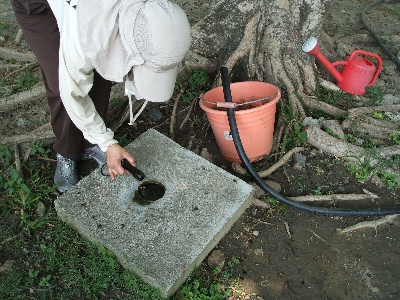bowl: (303, 36, 382, 97)
bucket: (198, 80, 282, 164)
